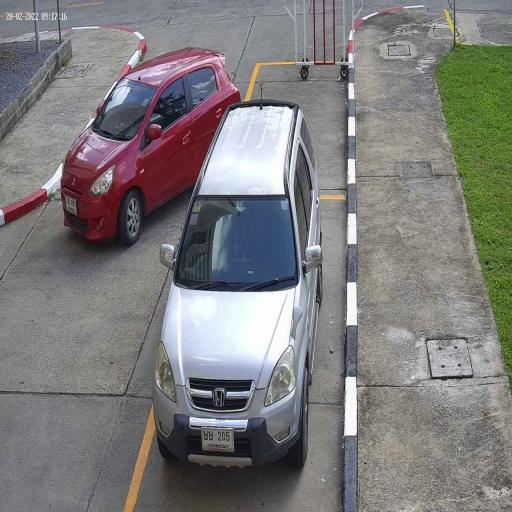car: (154, 98, 323, 476), (61, 45, 242, 249)
